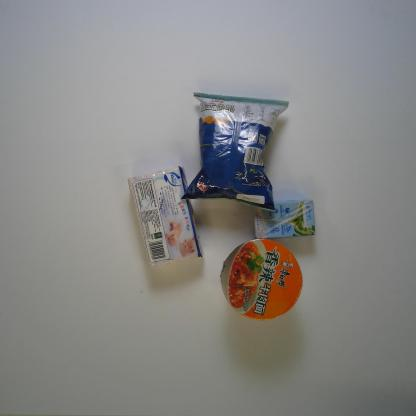Instant Noodles: (220, 237, 304, 322)
Milk: (252, 198, 316, 240)
Puffed Food: (180, 91, 288, 215)
Tissue: (126, 165, 204, 269)
